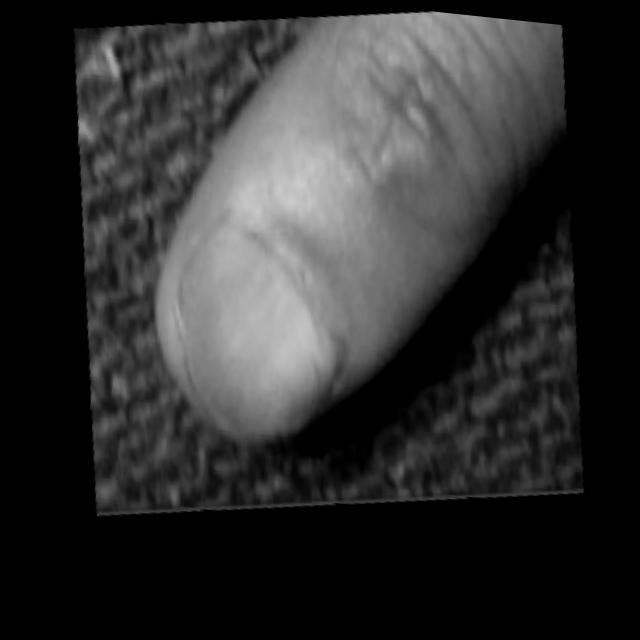Nail: (177, 227, 335, 437)
